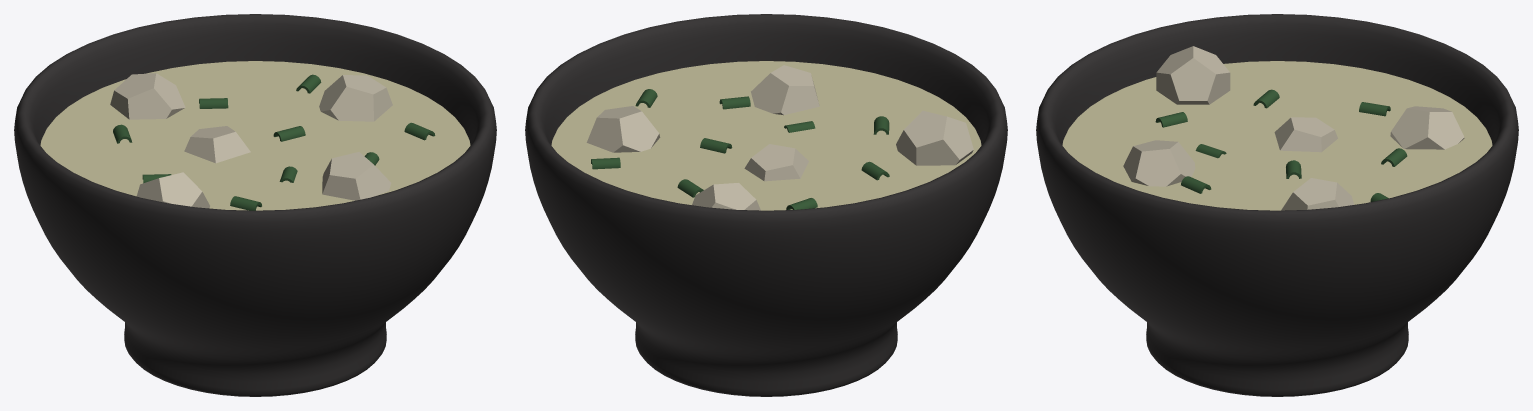
File: Rice_Gruel_4_4.fbx
3 views of the same model, side by side, from view 1: azimuth 30°, elevation 25°; view 2: azimuth 150°, elevation 25°; view 3: azimuth 270°, elevation 25° (orthographic).
Visible parts, largest first — view 1: pSphere1, pPlatonic6; view 2: pSphere1, pPlatonic6; view 3: pSphere1, pPlatonic6.
Boxes of the visible parts, x1,y1,x2,y2 form: pSphere1: [14, 14, 496, 396]; pPlatonic6: [40, 61, 470, 210]; pSphere1: [525, 14, 1007, 396]; pPlatonic6: [551, 61, 981, 210]; pSphere1: [1036, 14, 1518, 396]; pPlatonic6: [1062, 46, 1492, 210].
Bounding box in the file's own units: 2.08 × 1.1 × 2.08.
